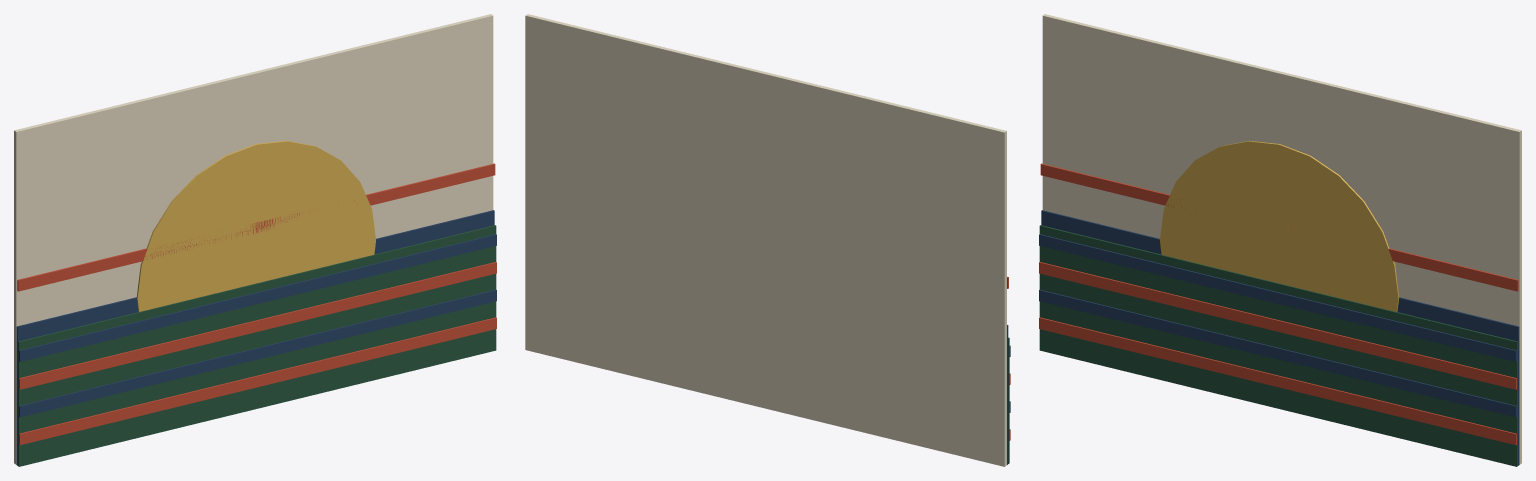
The model's file is mural_sunset.glb.
The picture shows the model from 3 angles, left to right: view 1: azimuth 30°, elevation 25°; view 2: azimuth 150°, elevation 25°; view 3: azimuth 330°, elevation 25°; orthographic projection.
Visible parts, largest first — view 1: mural_sunset; view 2: mural_sunset; view 3: mural_sunset.
Part boxes in pixels (x1,y1,x2,y2): mural_sunset: (14, 14, 496, 466); mural_sunset: (525, 14, 1010, 466); mural_sunset: (1039, 14, 1521, 466).
Size of the model in its own units: 3.6 by 2.4 by 0.076.
